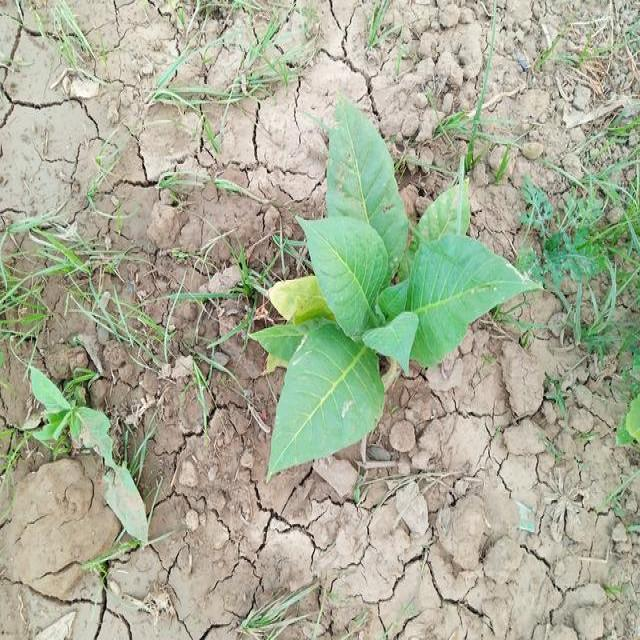crop: (262, 102, 534, 479)
